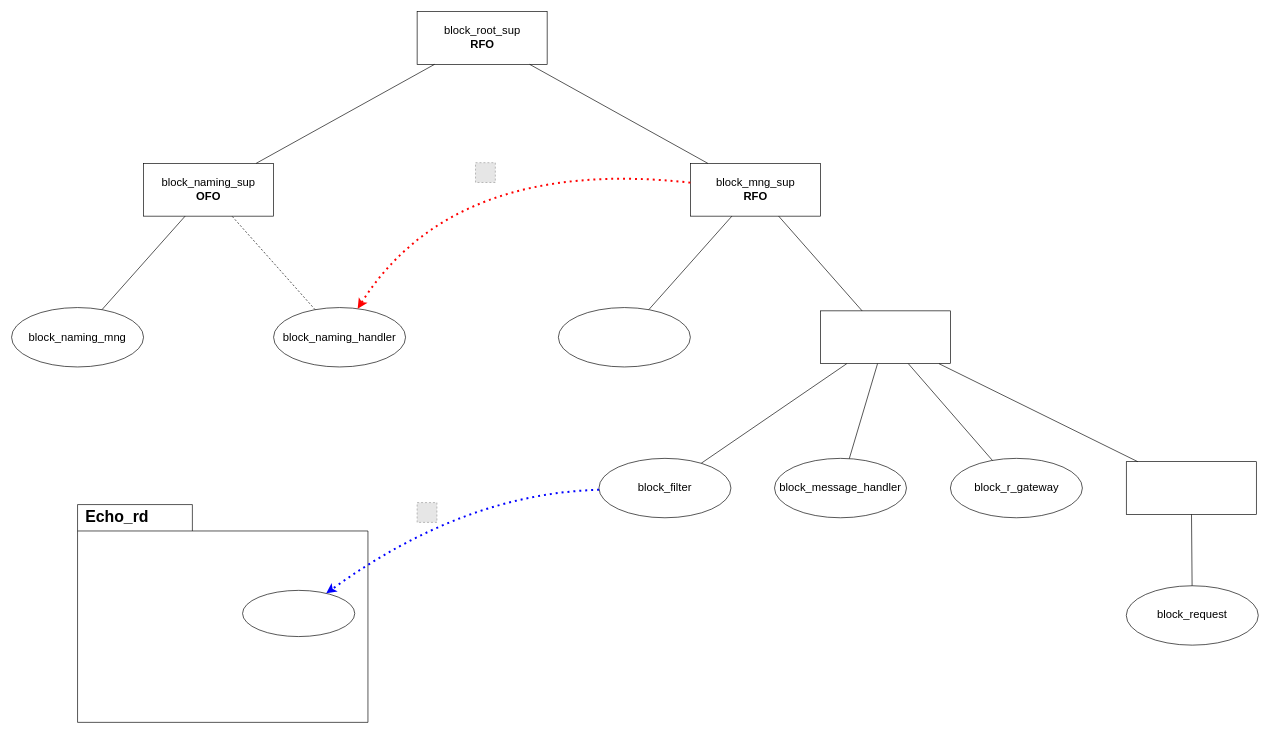
This 1270x734 diagram has some shape labels left out. Grey dashed boxes stand in for pictures. The shapes that lost their labels are listed below. From the top down, each one's box as (x1, y1, x2, y2) in pixels, then its label:
(558, 307, 690, 367): block_resource_handler
(820, 310, 950, 364): block_filter_sup RFO
(1126, 461, 1256, 514): block_r_sup SOFO
(242, 590, 355, 637): application_manager
